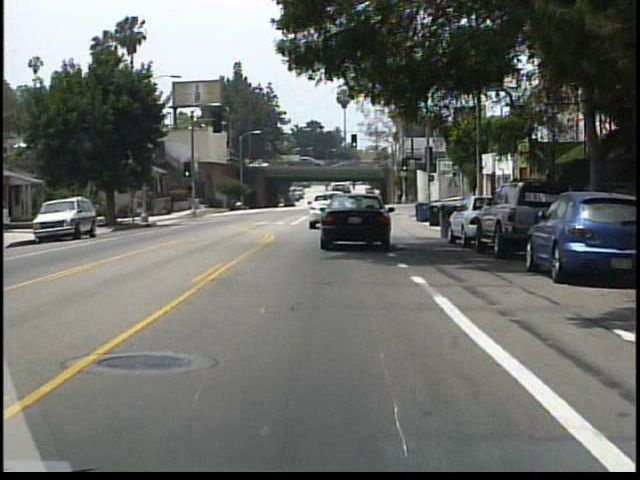person: (95, 199, 105, 226)
